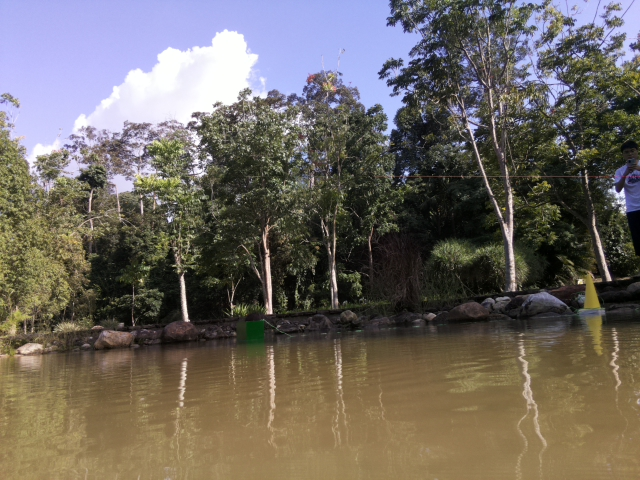checkpoint: (577, 271, 607, 318)
obstacle: (233, 320, 272, 348)
